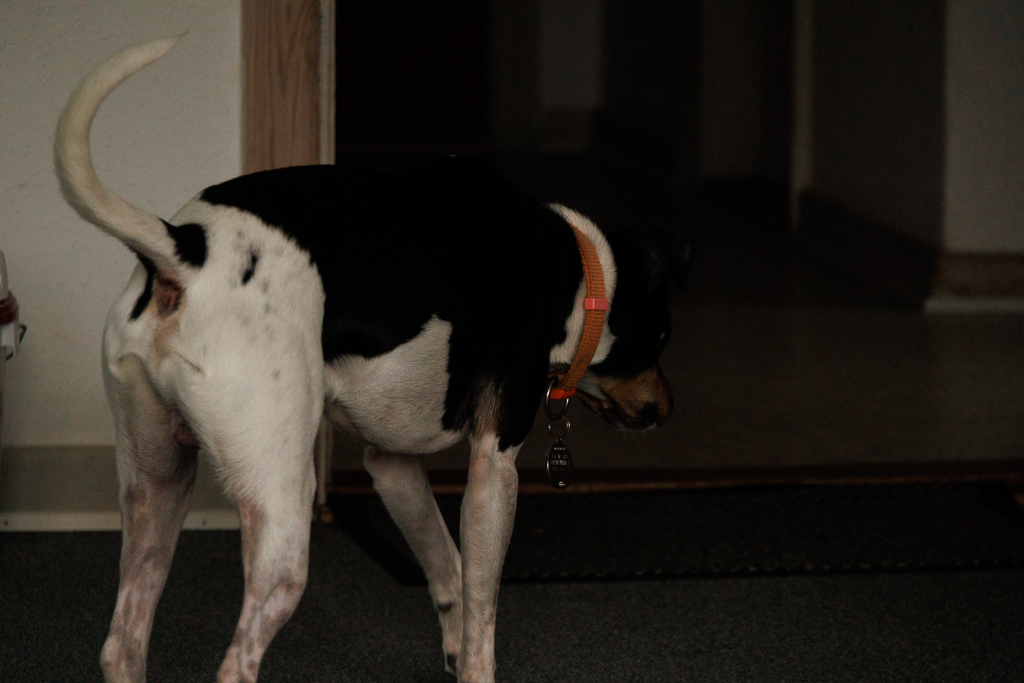Dog: (44, 29, 702, 683)
